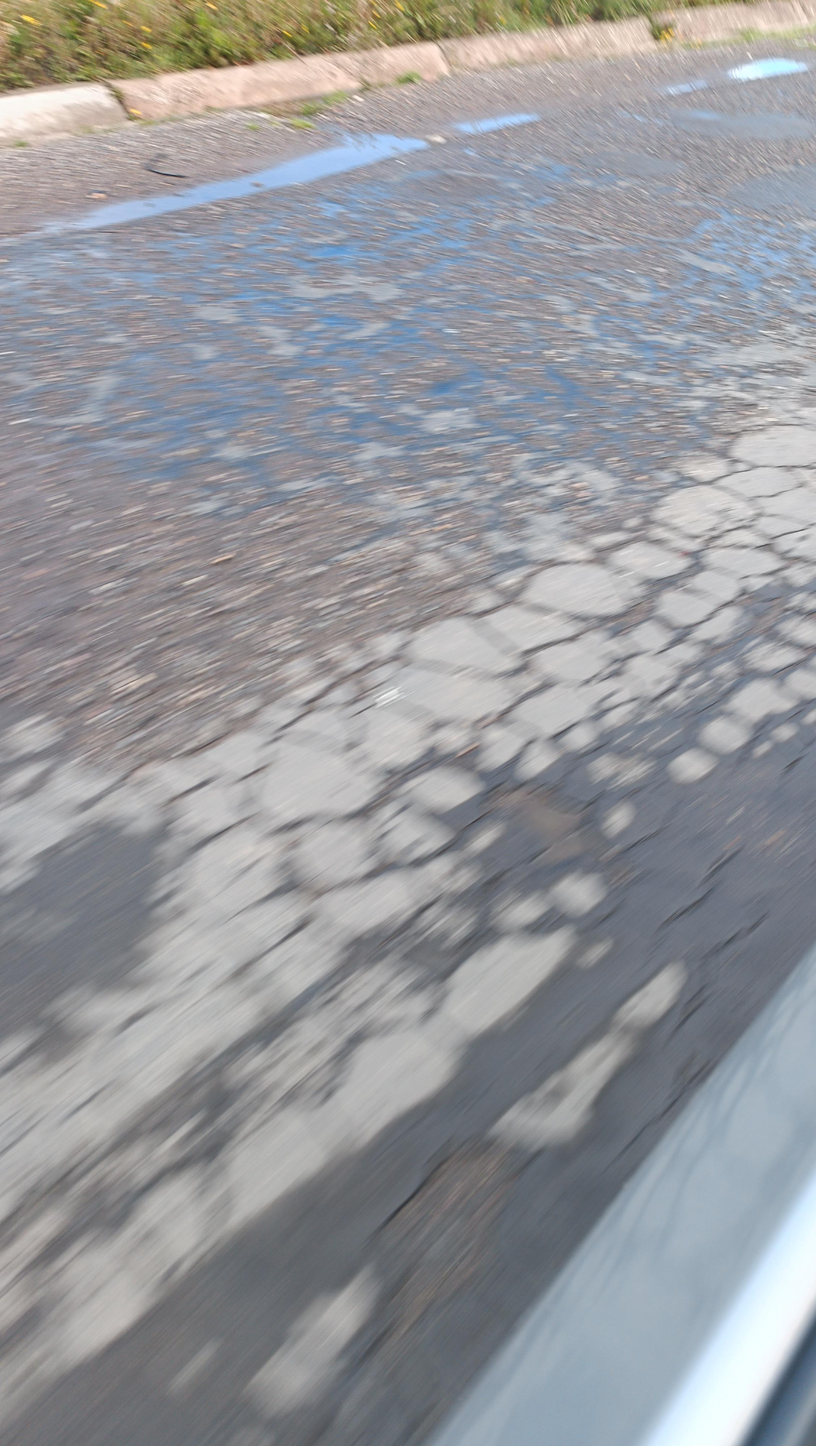PIEL DE COCODRILO: (0, 170, 816, 1432)
